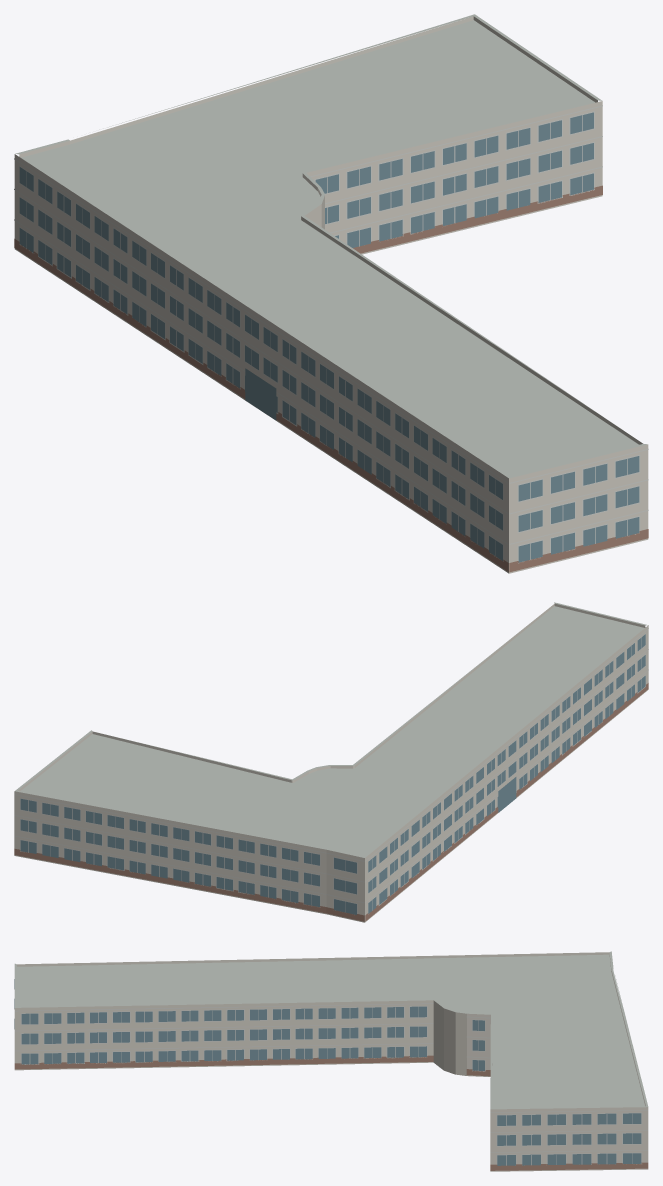
File: public-9f0b96da-d3ea-41d1-9c84-267d5c3f7632.glb
3 views of the same model, one above another, from view 1: azimuth 30°, elevation 25°; view 2: azimuth 150°, elevation 25°; view 3: azimuth 270°, elevation 25° (orthographic). The views are drawn at different scales.
Visible parts, largest first — view 1: public-9f0b96da-d3ea-41d1-9c84-267d5c3f7632; view 2: public-9f0b96da-d3ea-41d1-9c84-267d5c3f7632; view 3: public-9f0b96da-d3ea-41d1-9c84-267d5c3f7632.
Part boxes in pixels (x1=…): public-9f0b96da-d3ea-41d1-9c84-267d5c3f7632: x1=14, y1=14, x2=648, y2=573; public-9f0b96da-d3ea-41d1-9c84-267d5c3f7632: x1=14, y1=602, x2=648, y2=922; public-9f0b96da-d3ea-41d1-9c84-267d5c3f7632: x1=14, y1=951, x2=648, y2=1171.
Size of the model in its own units: 49.9 by 9.15 by 84.41.
